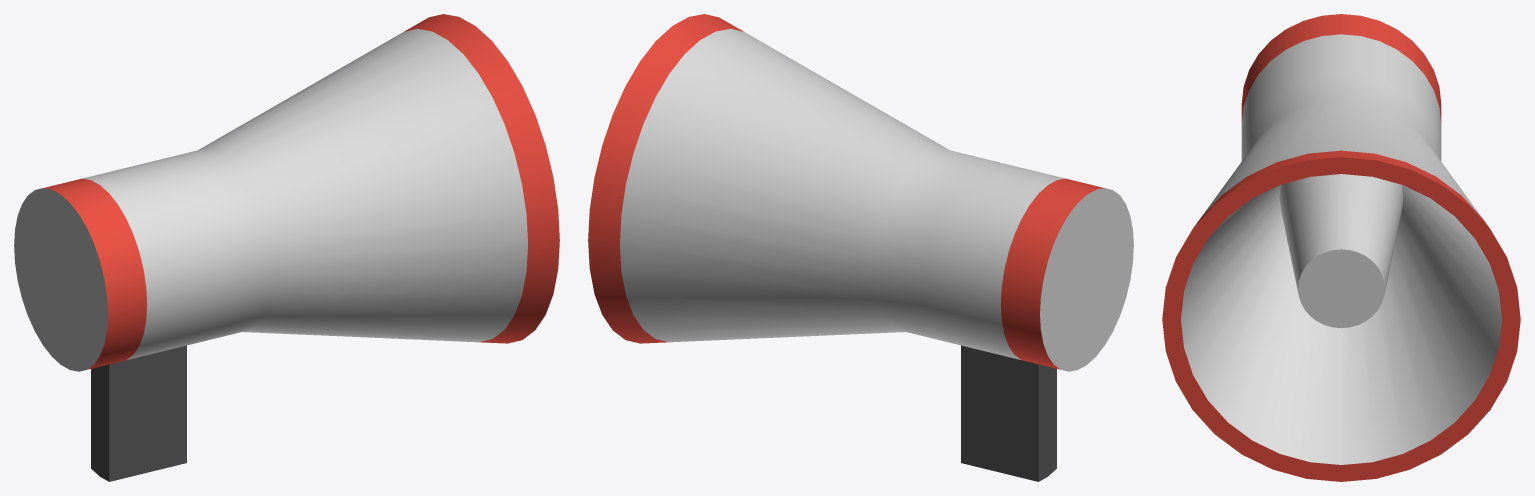
File: Megaphone.fbx
3 renders of one model, left to right at view 1: azimuth 30°, elevation 25°; view 2: azimuth 150°, elevation 25°; view 3: azimuth 270°, elevation 25°, orthographic. The views are drawn at different scales.
Visible parts, largest first — view 1: Toa; view 2: Toa; view 3: Toa.
Part boxes in pixels (bbox=[...]): Toa: bbox=[14, 14, 559, 481]; Toa: bbox=[588, 14, 1133, 481]; Toa: bbox=[1162, 14, 1520, 481].
Size of the model in its own units: 108 by 89.62 by 76.22.
